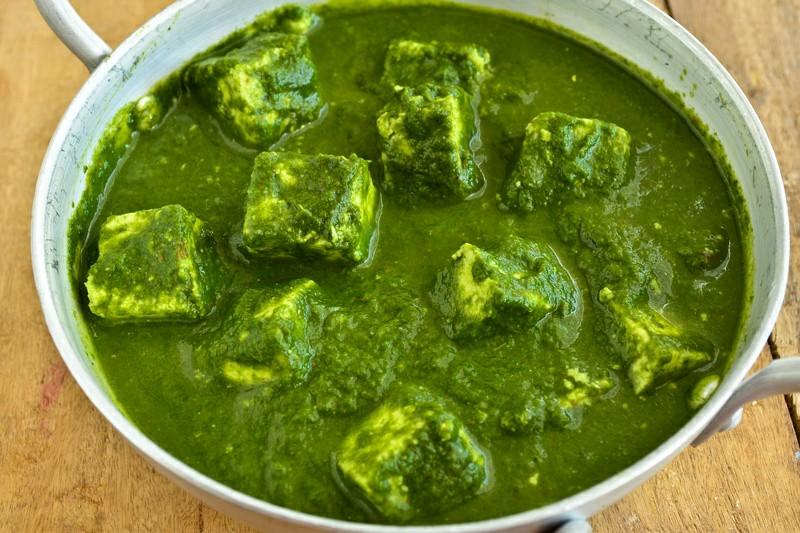PalakPaneer: (79, 10, 750, 526)
